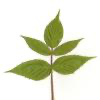Raspberry leaf: (2, 58, 54, 81), (52, 55, 97, 75), (43, 8, 64, 49), (17, 34, 52, 56), (53, 36, 86, 56)
